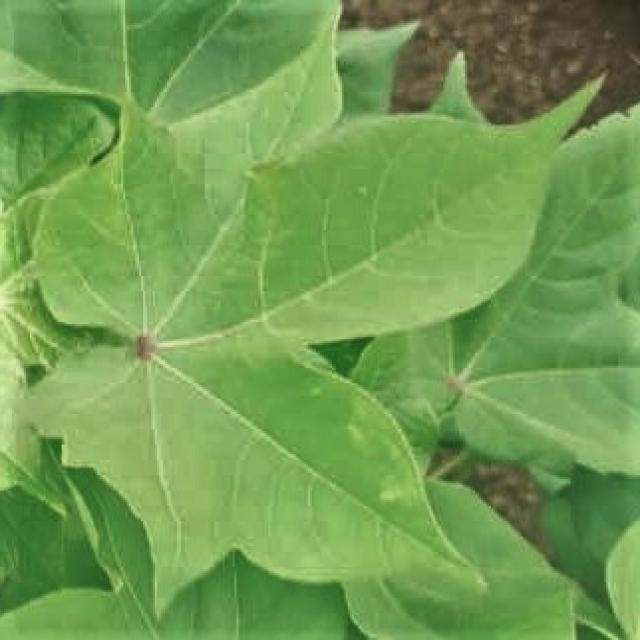Healthy Leaf: (40, 44, 543, 634)
